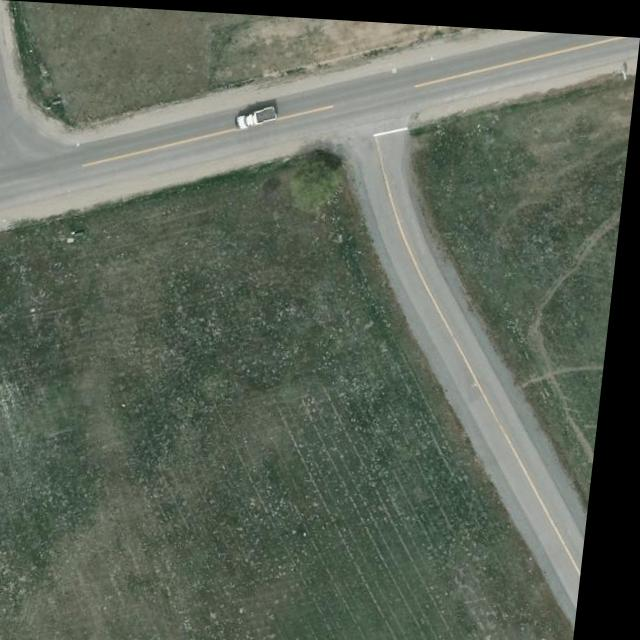vehicle: (237, 101, 280, 130)
